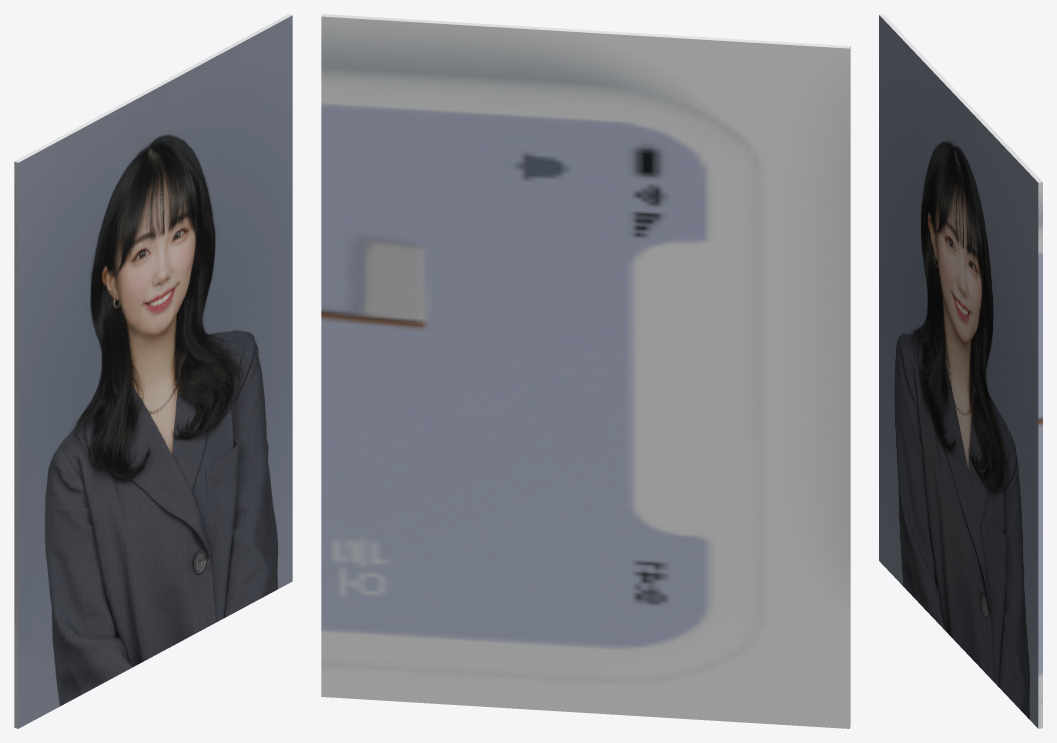
The model's file is Work04_03.glb.
3 views of the same model, side by side, from view 1: azimuth 30°, elevation 25°; view 2: azimuth 150°, elevation 25°; view 3: azimuth 270°, elevation 25° (orthographic). The views are drawn at different scales.
Parts seen in each view (by area): view 1: Cube.182; view 2: Cube.182; view 3: Cube.182.
Part boxes in pixels (box(x1,y1,x2,y2)): Cube.182: box(14, 14, 292, 728); Cube.182: box(321, 14, 850, 728); Cube.182: box(879, 14, 1042, 728).
Size of the model in its own units: 1.04 by 1.57 by 0.4274.
Materials: 2 (2 with a texture image).
